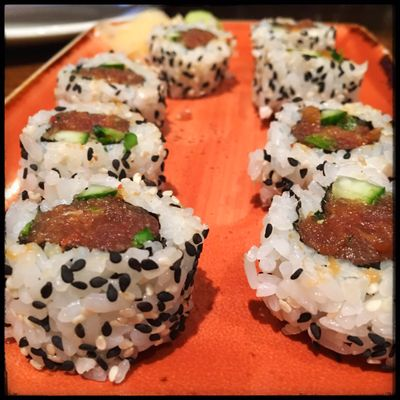sushi: (242, 11, 395, 363)
